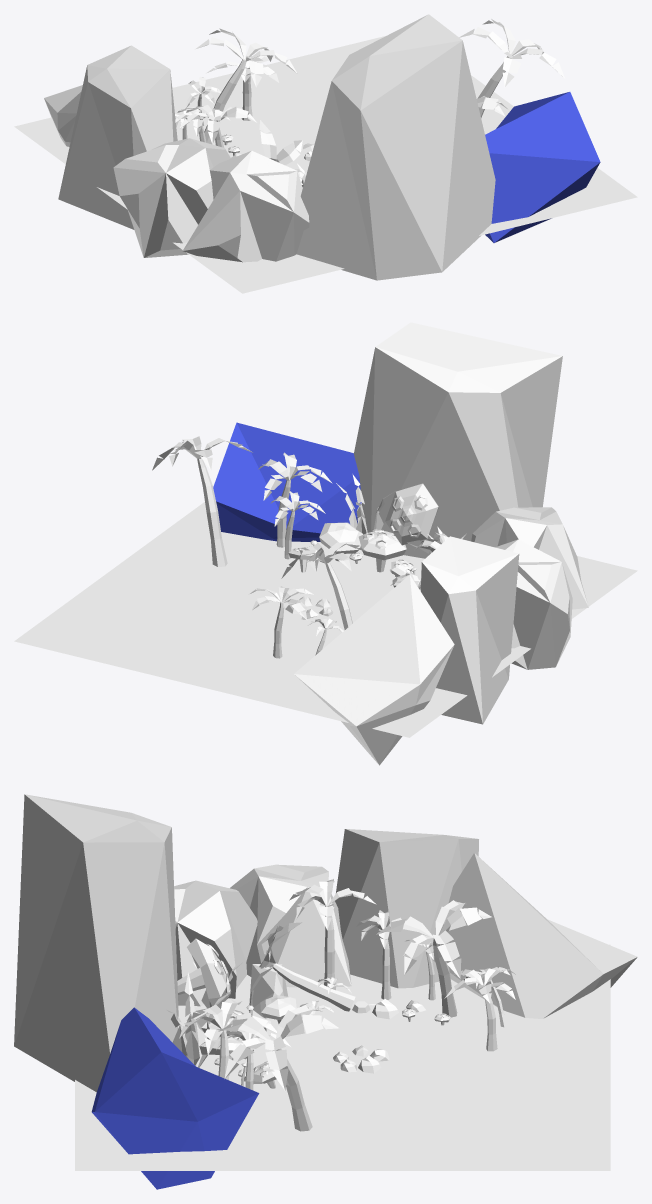
File: LevelOneMaterialsTest.glb
The picture shows the model from 3 angles, top to bottom: view 1: azimuth 30°, elevation 25°; view 2: azimuth 150°, elevation 25°; view 3: azimuth 270°, elevation 25°; orthographic projection. The views are drawn at different scales.
Visible parts, largest first — view 1: Icosphere.010, Ground, Icosphere.020, Icosphere.015, Icosphere.034, Icosphere.027, Plam, Palm, Icosphere.024, Palm.007, Palm(Fallen), Palm.004 (+2 smaller); view 2: Ground, Icosphere.010, Icosphere.024, Icosphere.020, Icosphere.015, Icosphere.027, Icosphere.034, mushroomholes.007, Plam, Palm.002, Palm, mushroomholes.001 (+4 smaller); view 3: Ground, Icosphere.010, Icosphere.015, Icosphere.024, Icosphere.020, Icosphere.027, Icosphere.034, Plam, Palm, mushroomholes.007, Palm(Fallen), Palm.007 (+7 smaller).
Boxes of the visible parts, left/top/right/bottom form: Icosphere.010: left=296, top=14, right=495, bottom=280; Ground: left=14, top=35, right=637, bottom=293; Icosphere.020: left=58, top=45, right=177, bottom=229; Icosphere.015: left=485, top=92, right=600, bottom=242; Icosphere.034: left=182, top=150, right=309, bottom=262; Icosphere.027: left=113, top=138, right=230, bottom=257; Plam: left=459, top=19, right=564, bottom=117; Palm: left=195, top=28, right=297, bottom=144; Icosphere.024: left=44, top=85, right=178, bottom=146; Palm.007: left=179, top=105, right=256, bottom=147; Palm(Fallen): left=231, top=120, right=302, bottom=165; Palm.004: left=206, top=55, right=278, bottom=120; Ground: left=14, top=502, right=637, bottom=737; Icosphere.010: left=353, top=322, right=562, bottom=558; Icosphere.024: left=294, top=575, right=454, bottom=765; Icosphere.020: left=420, top=536, right=519, bottom=724; Icosphere.015: left=213, top=422, right=361, bottom=541; Icosphere.027: left=495, top=539, right=572, bottom=669; Icosphere.034: left=471, top=507, right=588, bottom=609; mushroomholes.007: left=385, top=483, right=438, bottom=545; Plam: left=152, top=436, right=252, bottom=566; Palm.002: left=258, top=452, right=332, bottom=547; Palm: left=281, top=542, right=366, bottom=629; mushroomholes.001: left=358, top=529, right=406, bottom=572; Ground: left=75, top=944, right=610, bottom=1170; Icosphere.010: left=14, top=794, right=178, bottom=1092; Icosphere.015: left=91, top=1007, right=259, bottom=1189; Icosphere.024: left=433, top=853, right=637, bottom=1018; Icosphere.020: left=335, top=829, right=478, bottom=988; Icosphere.027: left=230, top=864, right=351, bottom=987; Icosphere.034: left=174, top=880, right=257, bottom=1006; Plam: left=218, top=1005, right=338, bottom=1131; Palm: left=376, top=900, right=491, bottom=1017; mushroomholes.007: left=177, top=938, right=230, bottom=1008; Palm(Fallen): left=249, top=922, right=355, bottom=1015; Palm.007: left=289, top=877, right=376, bottom=990.
Size of the model in its own units: 45.9 by 26.47 by 50.02.
